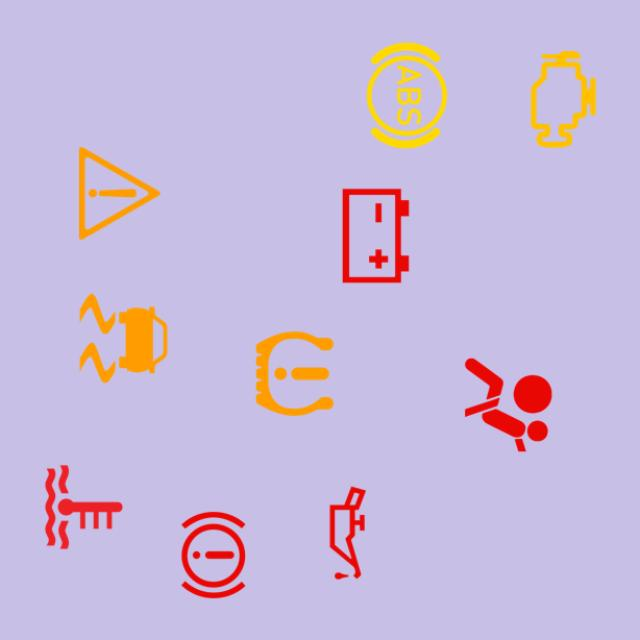Anti Lock Braking System: (349, 38, 465, 153)
Braking System Issue: (155, 497, 271, 613)
Charging System Issue: (318, 178, 434, 294)
Check Engine: (506, 42, 621, 157)
Electronic Stability Problem -ESP-: (66, 280, 181, 396)
Engine Overheating Warning Light: (26, 449, 142, 565)
Low Engine Oil Warning Light: (290, 475, 405, 591)
Low Tire Pressure Warning Light: (237, 316, 352, 431)
Master warning light: (62, 136, 177, 251)
SRS-Airbag: (450, 347, 566, 463)
